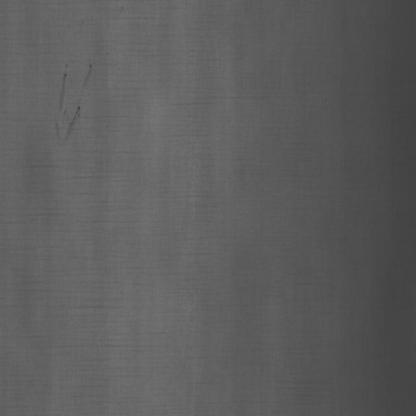water_spot: (45, 56, 100, 150)
